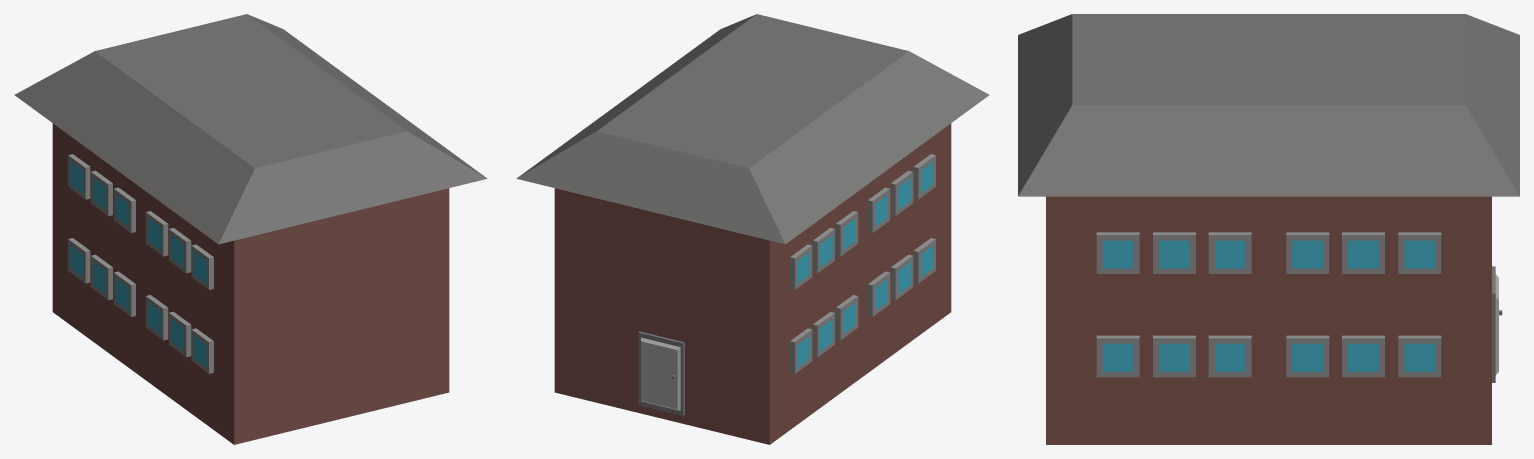
3 renders of one model, left to right at view 1: azimuth 30°, elevation 25°; view 2: azimuth 150°, elevation 25°; view 3: azimuth 270°, elevation 25°, orthographic. The views are drawn at different scales.
Parts seen in each view (by area): view 1: sdf; view 2: sdf, sfsf; view 3: sdf, sfsf.
Boxes of the visible parts, x1=… form: sdf: x1=14, y1=14, x2=487, y2=444; sdf: x1=516, y1=14, x2=989, y2=444; sfsf: x1=638, y1=331, x2=684, y2=415; sdf: x1=1018, y1=14, x2=1519, y2=444; sfsf: x1=1492, y1=266, x2=1502, y2=382.
Bounding box in the file's own units: 250 × 232 × 329.
